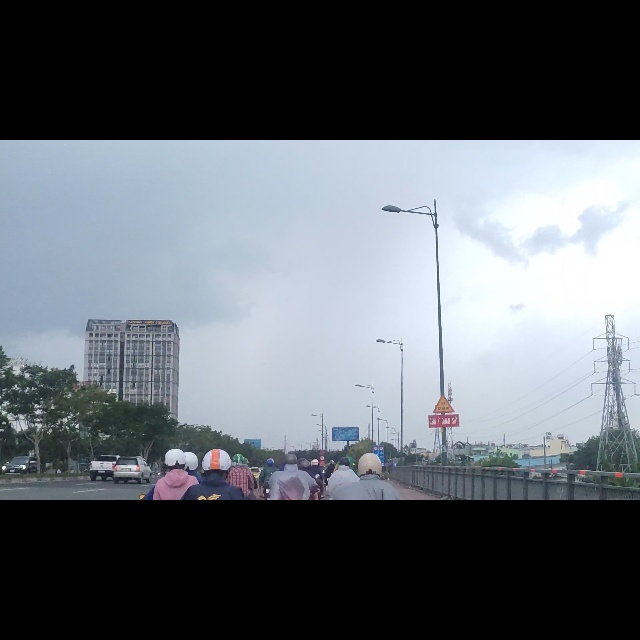bien_cam: (432, 453, 456, 487)
